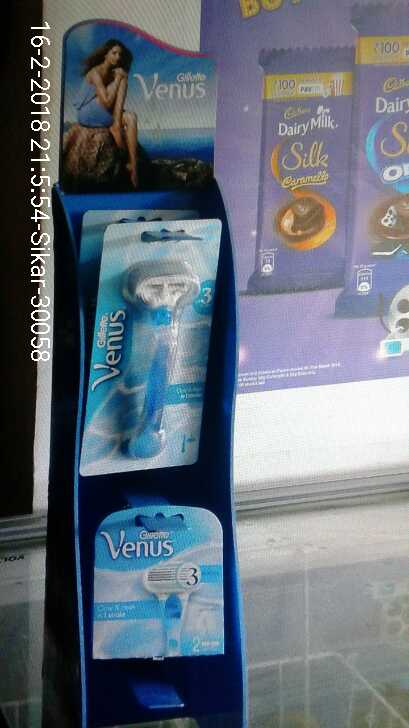venus: (80, 220, 210, 476), (91, 503, 226, 663)
